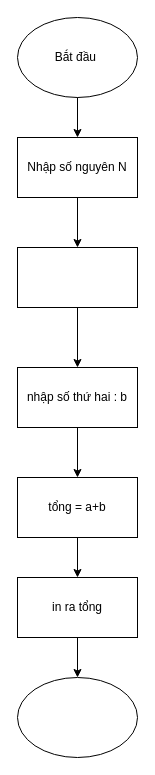
This 155x775 diagram has some shape labels left out. The shapes that lost their labels are listed below. From the top down, each one's centre as x and y in pixels, then its label:
point 77,277: nhập số thứ nhất : a
point 77,717: kết thúc
